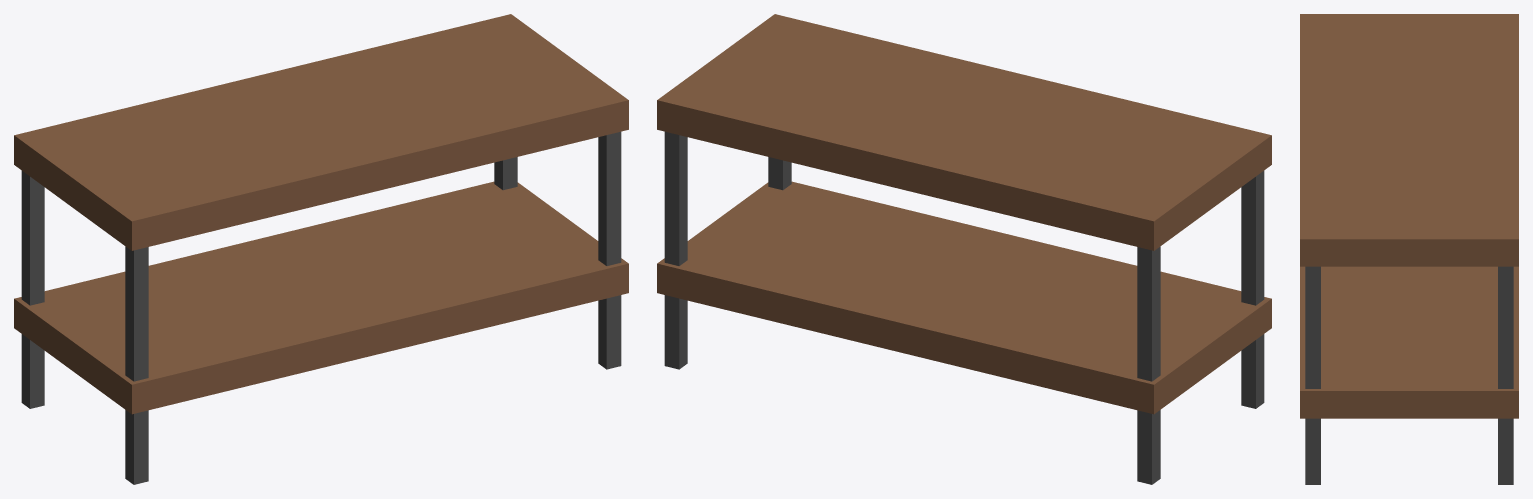
The model's file is shoe2.glb.
The picture shows the model from 3 angles, left to right: view 1: azimuth 30°, elevation 25°; view 2: azimuth 150°, elevation 25°; view 3: azimuth 270°, elevation 25°; orthographic projection. The views are drawn at different scales.
Parts seen in each view (by area): view 1: ShoeRack1; view 2: ShoeRack1; view 3: ShoeRack1.
Boxes of the visible parts, box(x1,y1,x2,y2) form: ShoeRack1: box(14, 14, 628, 484); ShoeRack1: box(657, 14, 1271, 484); ShoeRack1: box(1300, 14, 1518, 484).
Bounding box in the file's own units: 78 × 40 × 32.
